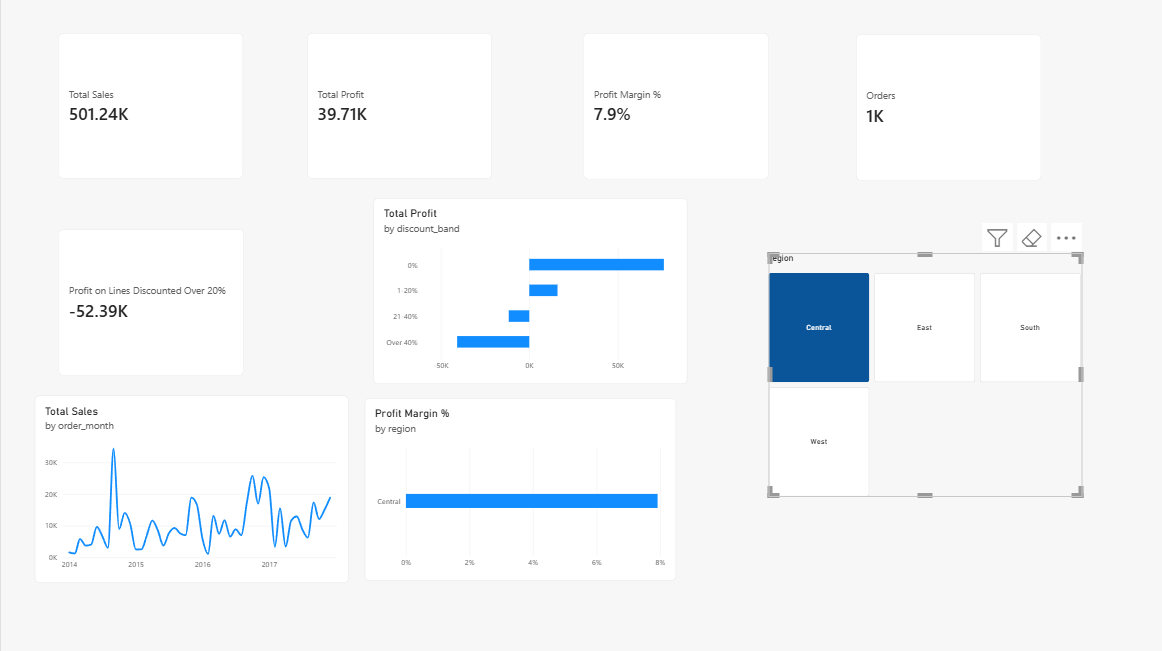

The dashboard page shown, as its layout file describes it:
{"tool":"powerbi","page":{"name":"Sales Dashboard","canvas":[1920,1080],"ordinal":0},"visuals":[{"type":"cardVisual","fields":{"Data":["orders_clean.Total Sales"]},"box":[94.7,57.6,304.6,240.8],"z":0},{"type":"cardVisual","fields":{"Data":["orders_clean.Total Profit"]},"box":[504.3,57.6,304.6,240.8],"z":1000},{"type":"cardVisual","fields":{"Data":["orders_clean.Profit Margin %"]},"box":[959.2,57.6,305,241],"z":2000},{"type":"cardVisual","fields":{"Data":["orders_clean.Orders"]},"box":[1407.9,59.7,305,241],"z":3000},{"type":"cardVisual","fields":{"Data":["orders_clean.Profit on Lines Discounted Over 20%"]},"box":[94.7,380.8,305,241],"z":4000},{"type":"clusteredBarChart","fields":{"Category":["orders_clean.region"],"Y":["orders_clean.Profit Margin %"]},"box":[599,658.7,512.5,300.5],"z":4001},{"type":"clusteredBarChart","fields":{"Category":["orders_clean.discount_band"],"Y":["orders_clean.Total Profit"]},"box":[613.4,329.3,516.6,306.7],"z":4002},{"type":"lineChart","fields":{"Category":["orders_clean.order_month"],"Y":["orders_clean.Total Sales"]},"box":[55.6,654.5,516.6,308.7],"z":4003},{"type":"advancedSlicerVisual","fields":{"Values":["orders_clean.region"]},"box":[1263.8,419.9,516.6,401.4],"z":4004}]}

Visuals, with their boxes in screenshot pixels (x1, y1, x2, y2), scaled from the page's 1920x1080 canvas onto the 1162x651 screenshot:
cardVisual - orders_clean.Total Sales: {"left": 57, "top": 35, "right": 242, "bottom": 180}
cardVisual - orders_clean.Total Profit: {"left": 305, "top": 35, "right": 490, "bottom": 180}
cardVisual - orders_clean.Profit Margin %: {"left": 581, "top": 35, "right": 765, "bottom": 180}
cardVisual - orders_clean.Orders: {"left": 852, "top": 36, "right": 1037, "bottom": 181}
cardVisual - orders_clean.Profit on Lines Discounted Over 20%: {"left": 57, "top": 230, "right": 242, "bottom": 375}
clusteredBarChart - orders_clean.region x orders_clean.Profit Margin %: {"left": 363, "top": 397, "right": 673, "bottom": 578}
clusteredBarChart - orders_clean.discount_band x orders_clean.Total Profit: {"left": 371, "top": 198, "right": 684, "bottom": 383}
lineChart - orders_clean.order_month x orders_clean.Total Sales: {"left": 34, "top": 395, "right": 346, "bottom": 581}
advancedSlicerVisual - orders_clean.region: {"left": 765, "top": 253, "right": 1078, "bottom": 495}
